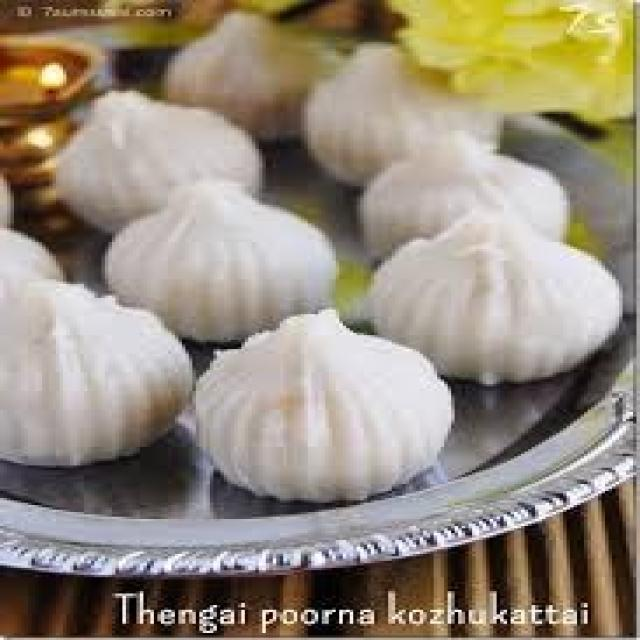poorna kolukattai: (77, 18, 575, 475)
